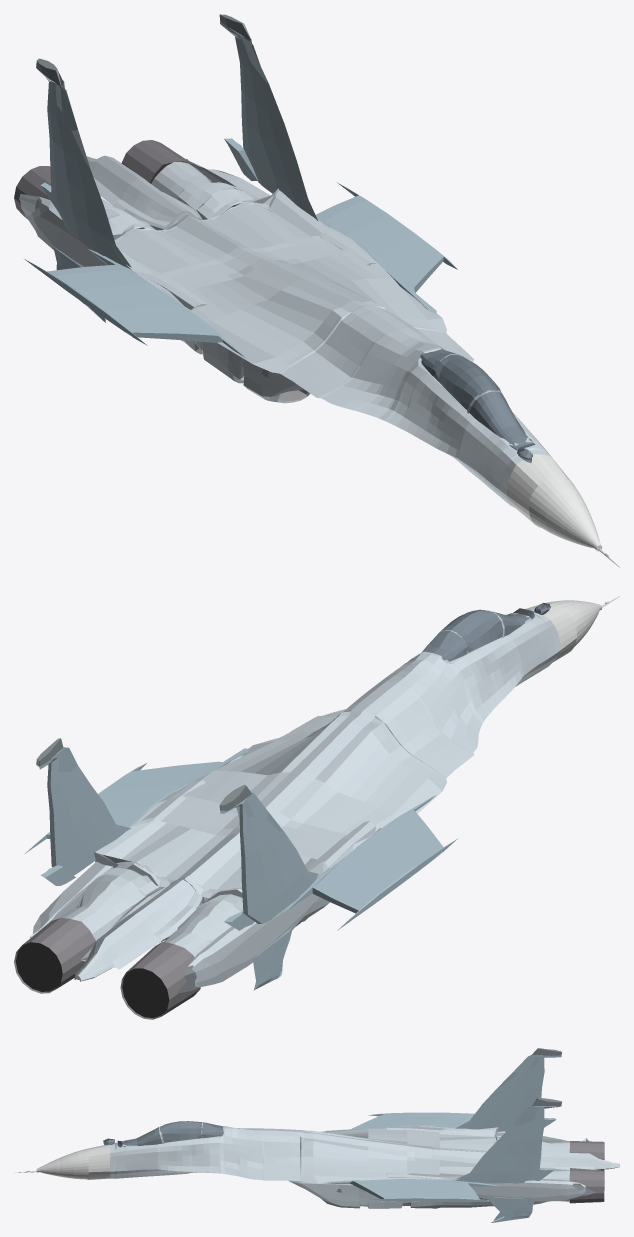
3 renders of one model, top to bottom at view 1: azimuth 30°, elevation 25°; view 2: azimuth 150°, elevation 25°; view 3: azimuth 270°, elevation 25°, orthographic. The views are drawn at different scales.
Visible parts, largest first — view 1: 0_Body, 1_BodyCamo, 1_Radome, 2_Cockpit, 6_EngineExterior, 1_Dielectric; view 2: 0_Body, 1_BodyCamo, 6_EngineExterior, 5_EngineInterior, 2_Cockpit, 1_Radome, 1_Dielectric; view 3: 0_Body, 1_BodyCamo, 1_Radome, 2_Cockpit, 6_EngineExterior, 1_Dielectric.
Part boxes in pixels (<box>): 0_Body: <box>19,155,551,507</box>; 1_BodyCamo: <box>24,21,457,358</box>; 1_Radome: <box>506,454,619,567</box>; 2_Cockpit: <box>420,349,535,462</box>; 6_EngineExterior: <box>14,140,196,219</box>; 1_Dielectric: <box>36,14,251,86</box>; 0_Body: <box>30,609,560,993</box>; 1_BodyCamo: <box>25,747,457,990</box>; 6_EngineExterior: <box>14,918,200,1019</box>; 5_EngineInterior: <box>16,942,169,1017</box>; 2_Cockpit: <box>421,603,550,661</box>; 1_Radome: <box>525,596,619,661</box>; 1_Dielectric: <box>36,738,251,811</box>; 0_Body: <box>110,1122,619,1208</box>; 1_BodyCamo: <box>324,1055,561,1222</box>; 1_Radome: <box>14,1144,110,1179</box>; 2_Cockpit: <box>103,1121,223,1147</box>; 6_EngineExterior: <box>569,1141,604,1203</box>; 1_Dielectric: <box>532,1048,561,1106</box>.
Size of the model in its own units: 7.04 by 4.84 by 21.11.
